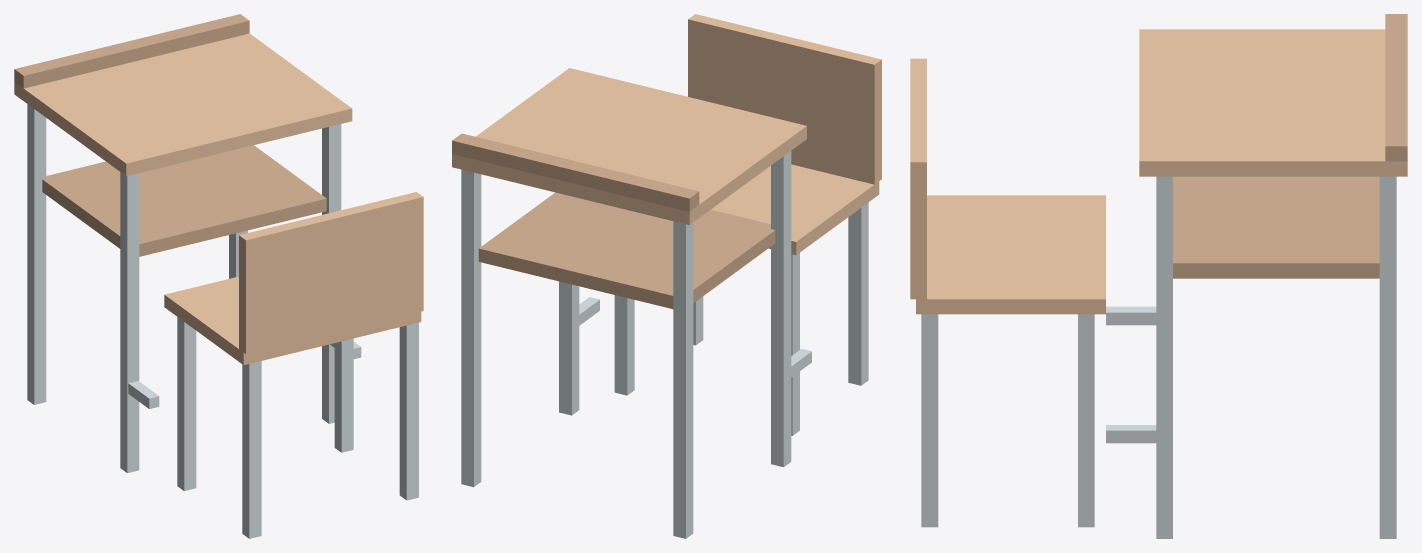
File: deskSchool.glb
3 renders of one model, left to right at view 1: azimuth 30°, elevation 25°; view 2: azimuth 150°, elevation 25°; view 3: azimuth 270°, elevation 25°, orthographic. The views are drawn at different scales.
Visible parts, largest first — view 1: deskSchool; view 2: deskSchool; view 3: deskSchool.
Part boxes in pixels (x1,y1,x2,y2): deskSchool: (14, 14, 423, 538); deskSchool: (452, 14, 881, 538); deskSchool: (910, 14, 1407, 538).
Size of the model in its own units: 0.28 by 0.39 by 0.445.
